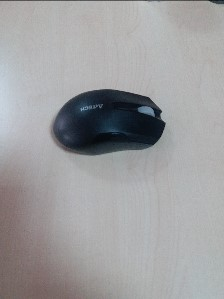mouse: (48, 89, 166, 151)
